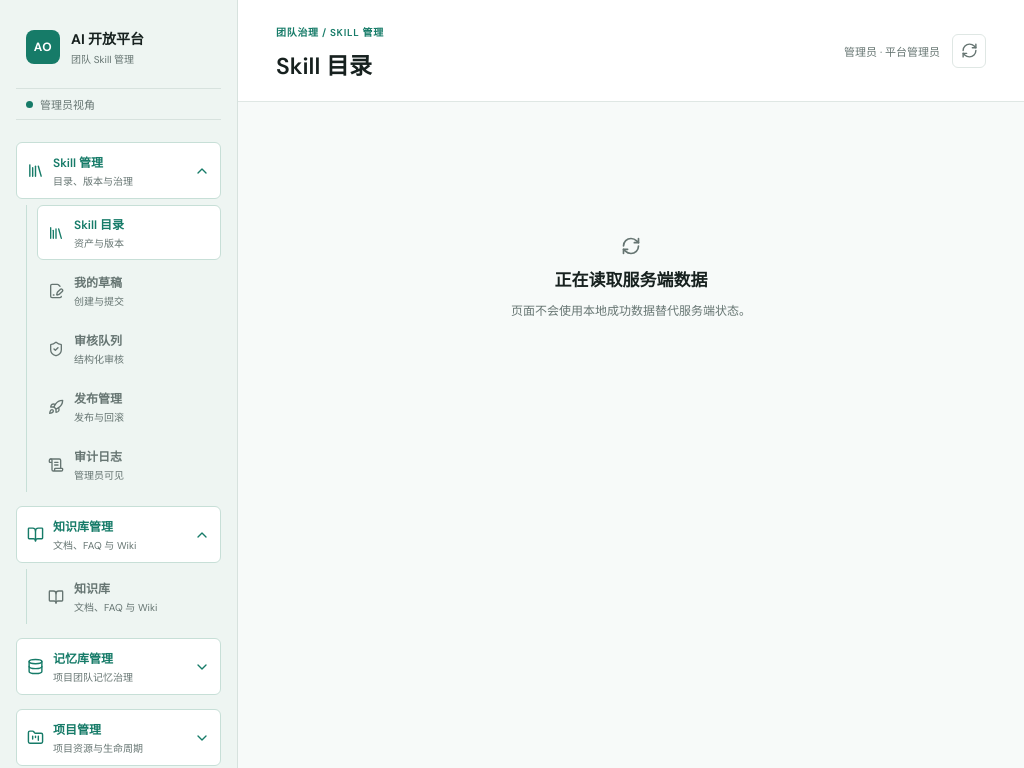
Test: AdminDashboard › shows a forbidden memory response instead of an empty list
Click the button "记忆库管理 项目团队记忆治理" at {"x": 118, "y": 666}, box [16,638,221,695]
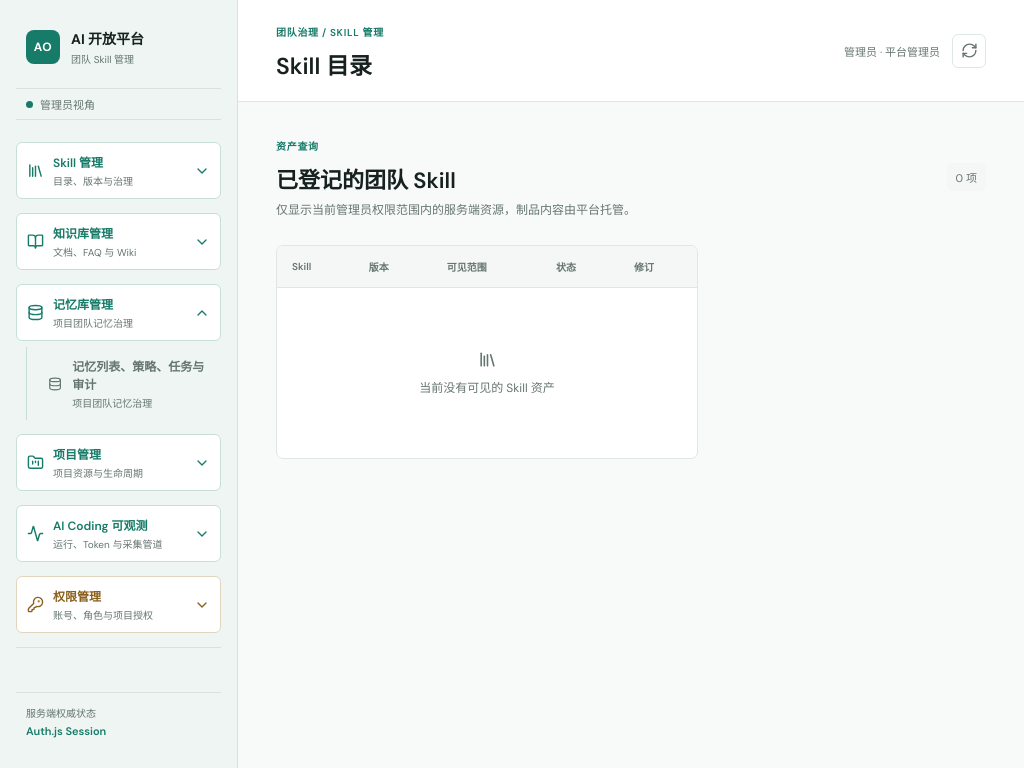
Click the button "记忆列表、策略、任务与审计 项目团队记忆治理" at {"x": 129, "y": 384}, box [37,347,221,420]
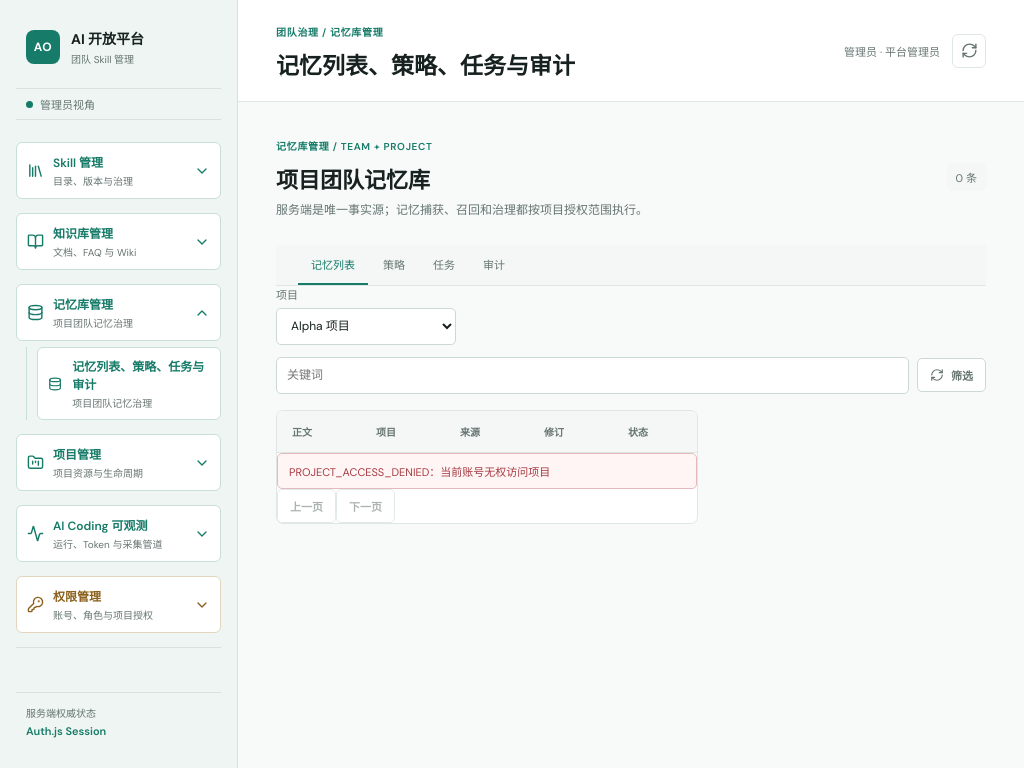
Check: the text "PROJECT_ACCESS_DENIED：当前账号无权访问项目" is shown, box [277,453,697,489]
